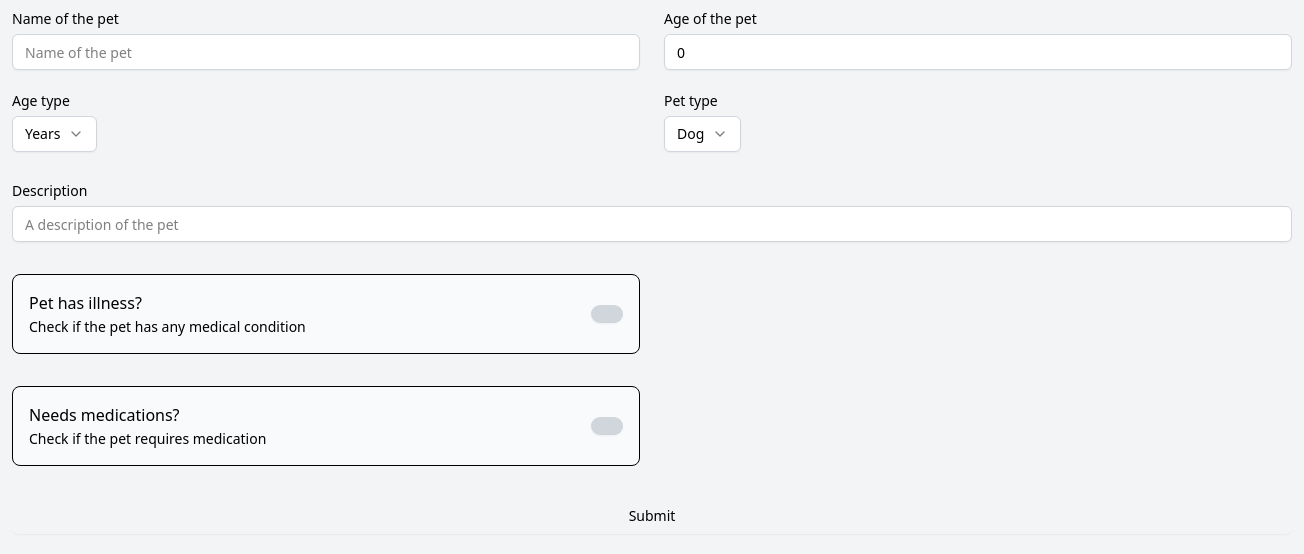
Test: Post pet form tests › Should validate medication description is required when needMedications is true
Type "Test Pet" into the field with placeholder "Name of the pet" at [326, 52], box [12, 34, 640, 70]
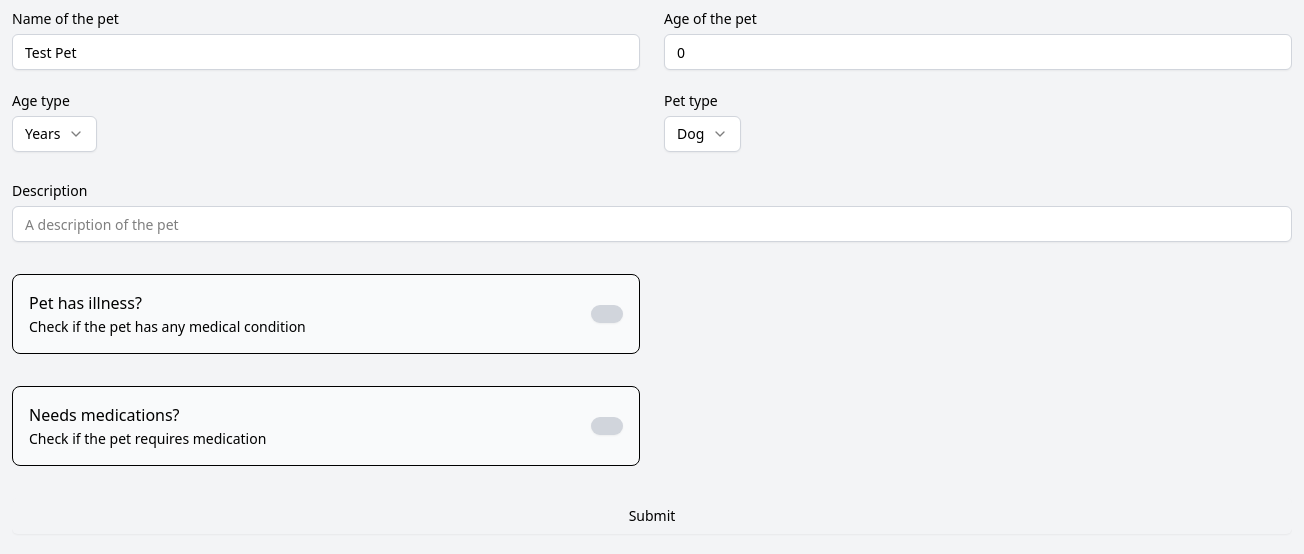
Replace the text in the number field with placeholder "Age" with "2" at [978, 52], box [664, 34, 1292, 70]
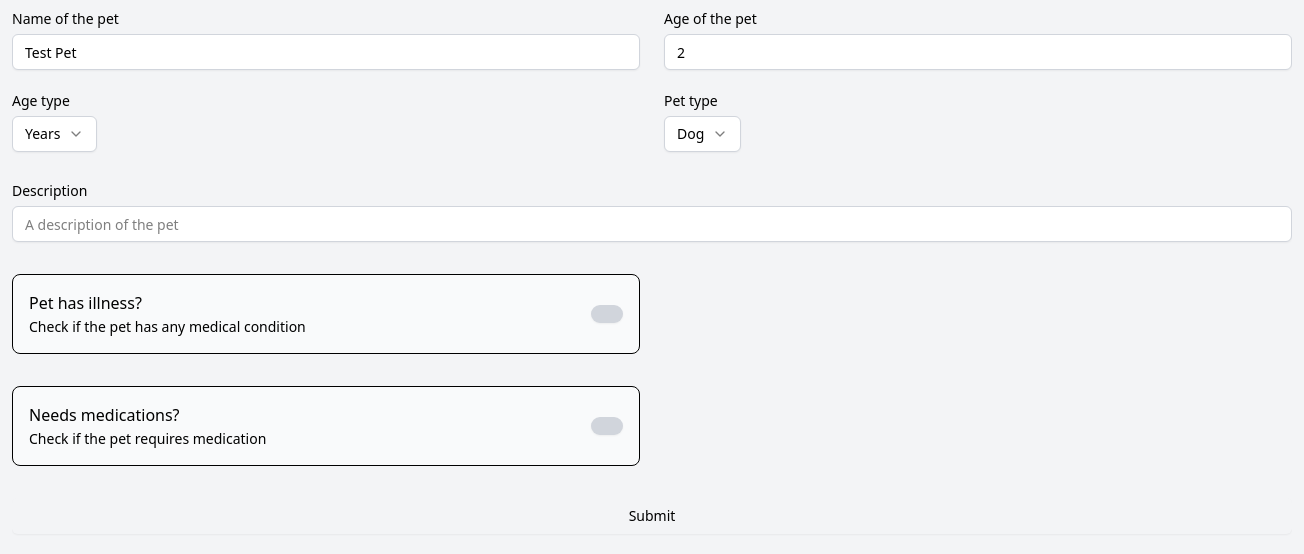
Type "This is a test description for the pet" into the field with placeholder "A description of the pet" at [652, 224], box [12, 206, 1292, 242]
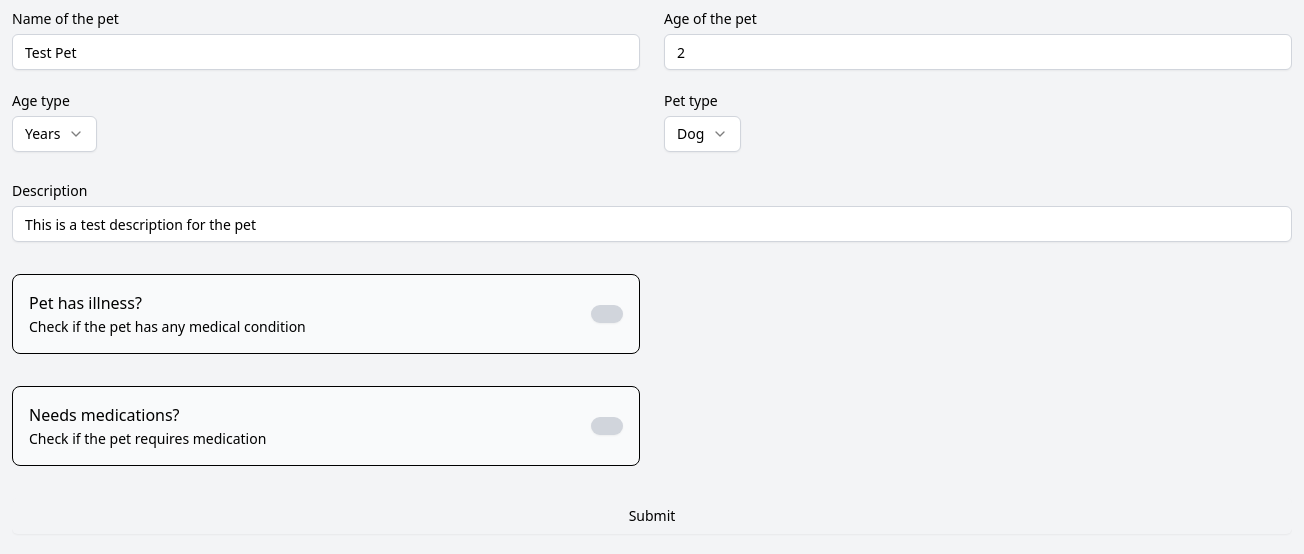
Click the switch named "needs medications" in the row of "Check if the pet requires medication" at [607, 426], box [591, 417, 623, 435]
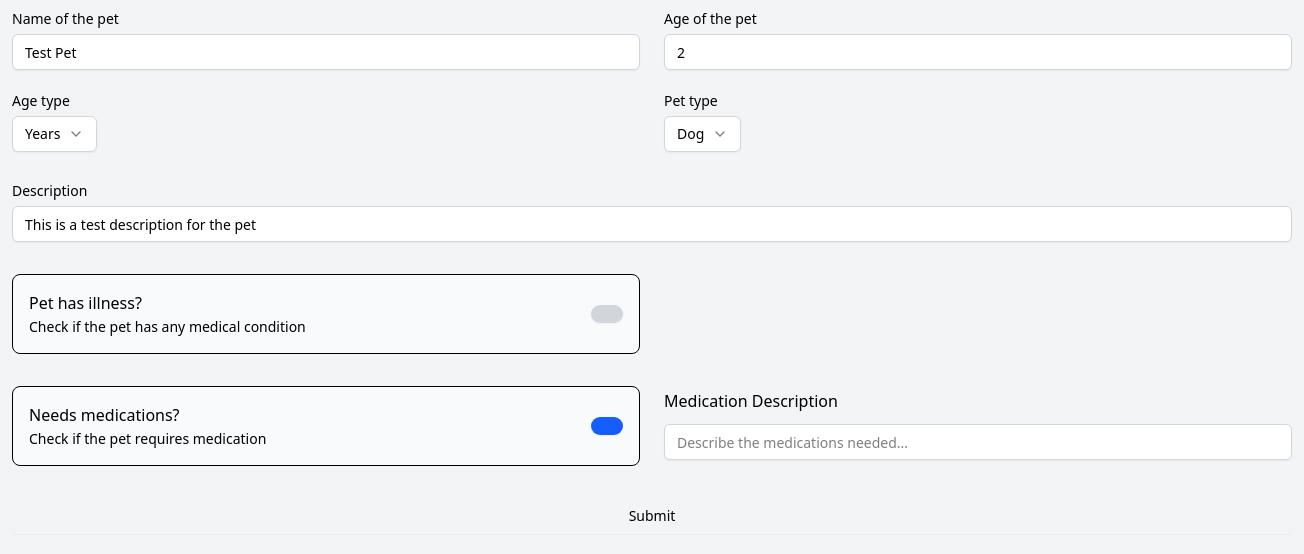
Expected: the text "Medication Description" is shown, [664, 390, 838, 412]
Click the button "Submit" at [652, 516], box [12, 498, 1292, 534]
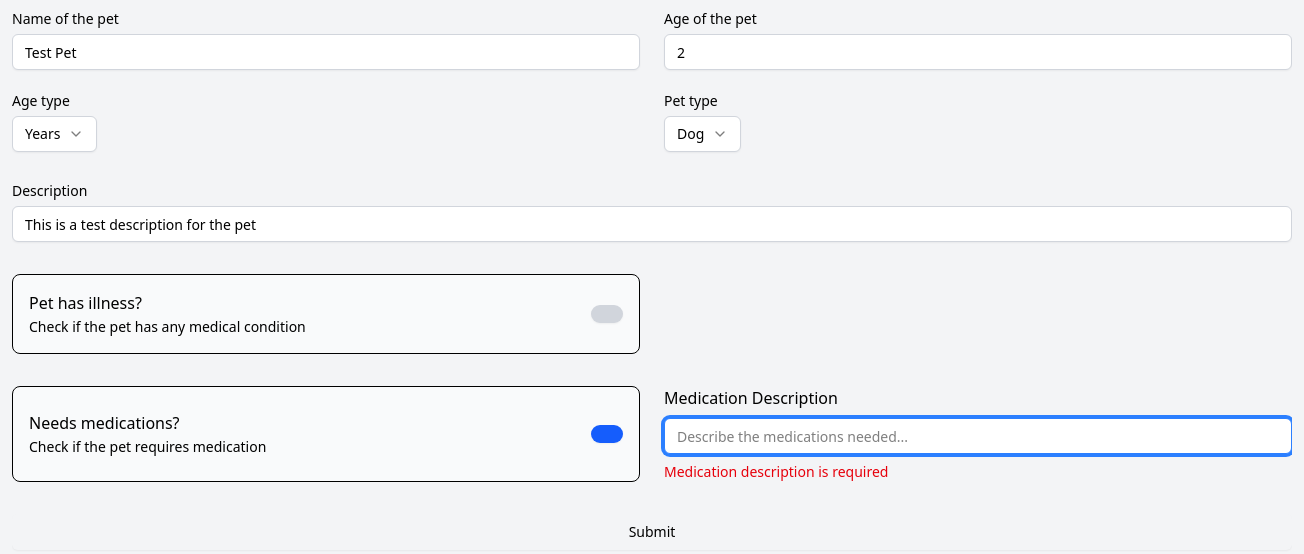
Expected: the text "Medication description is required" is shown, [664, 462, 888, 481]
